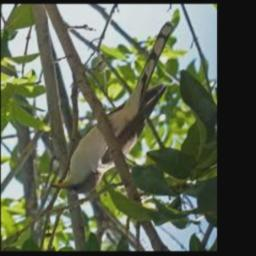Cuckoo: (50, 22, 175, 194)
